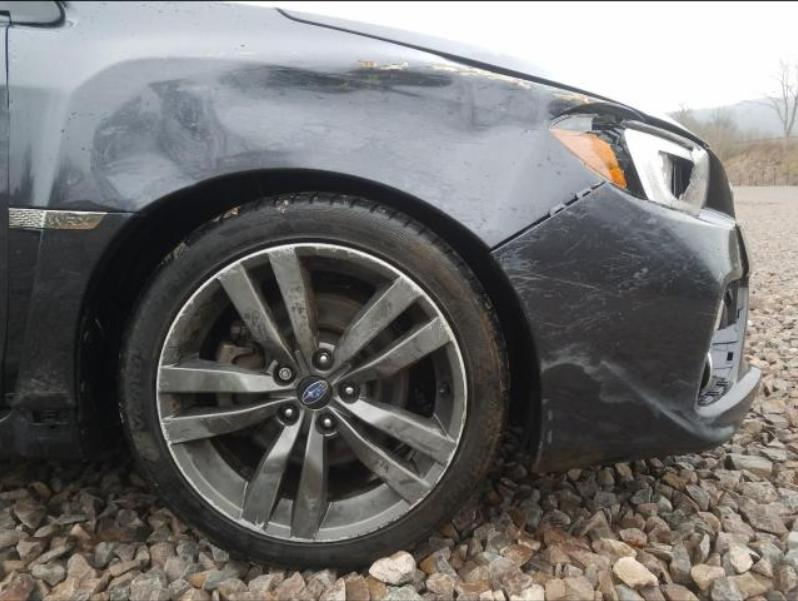Fender: (7, 1, 639, 392)
Front-bumper: (492, 182, 761, 474)
Front-door: (0, 0, 9, 389)
Front-wheel: (118, 192, 511, 573)
Headlight: (549, 106, 735, 228)
Hood: (280, 7, 700, 140)
Rocker-panel: (0, 395, 83, 459)
